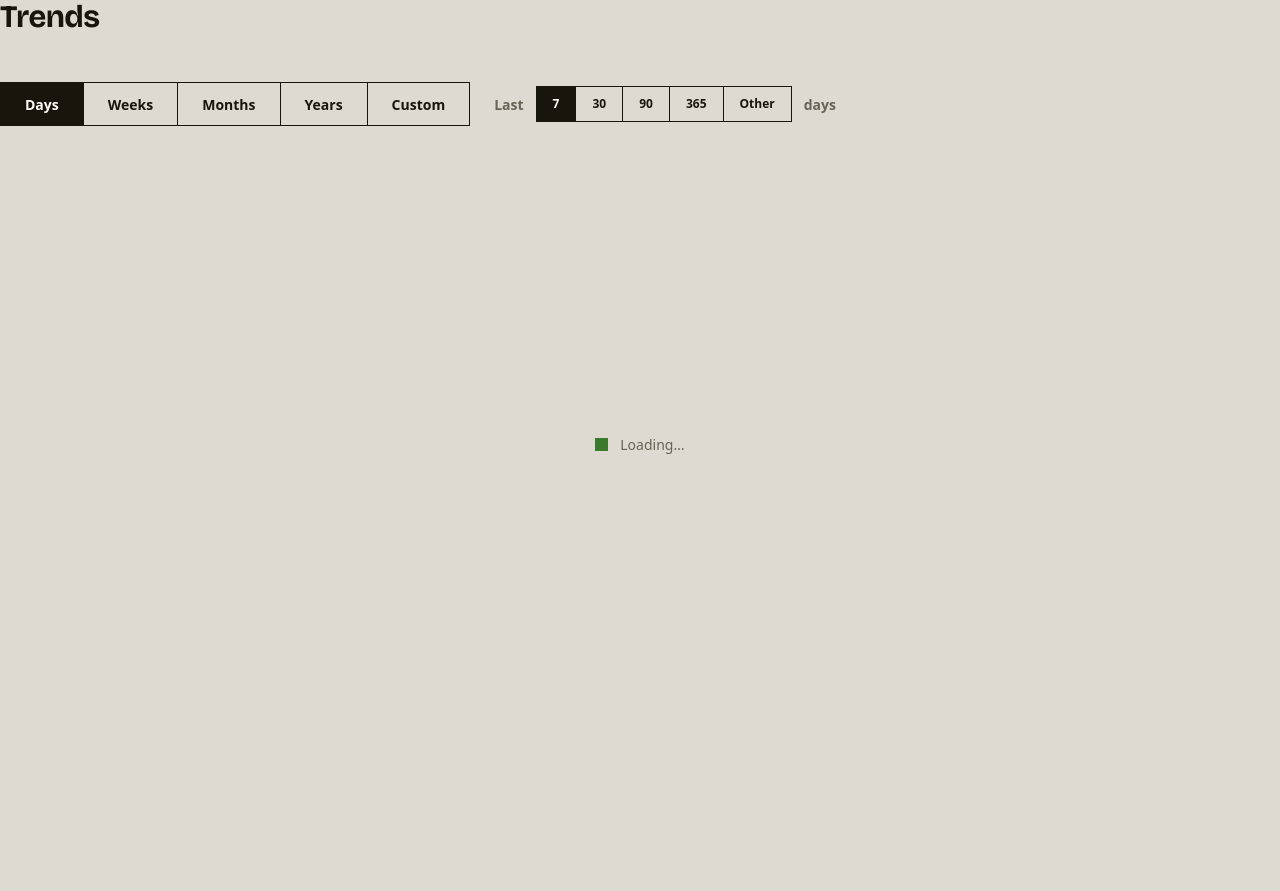
Scenario: Trends › shows the loader until the current request answers, ignoring a slower earlier one
Expected: the text "Loading…" is shown, [620,434,684,455]
Click the button "Weeks": {"x": 131, "y": 104} [84,83,178,125]
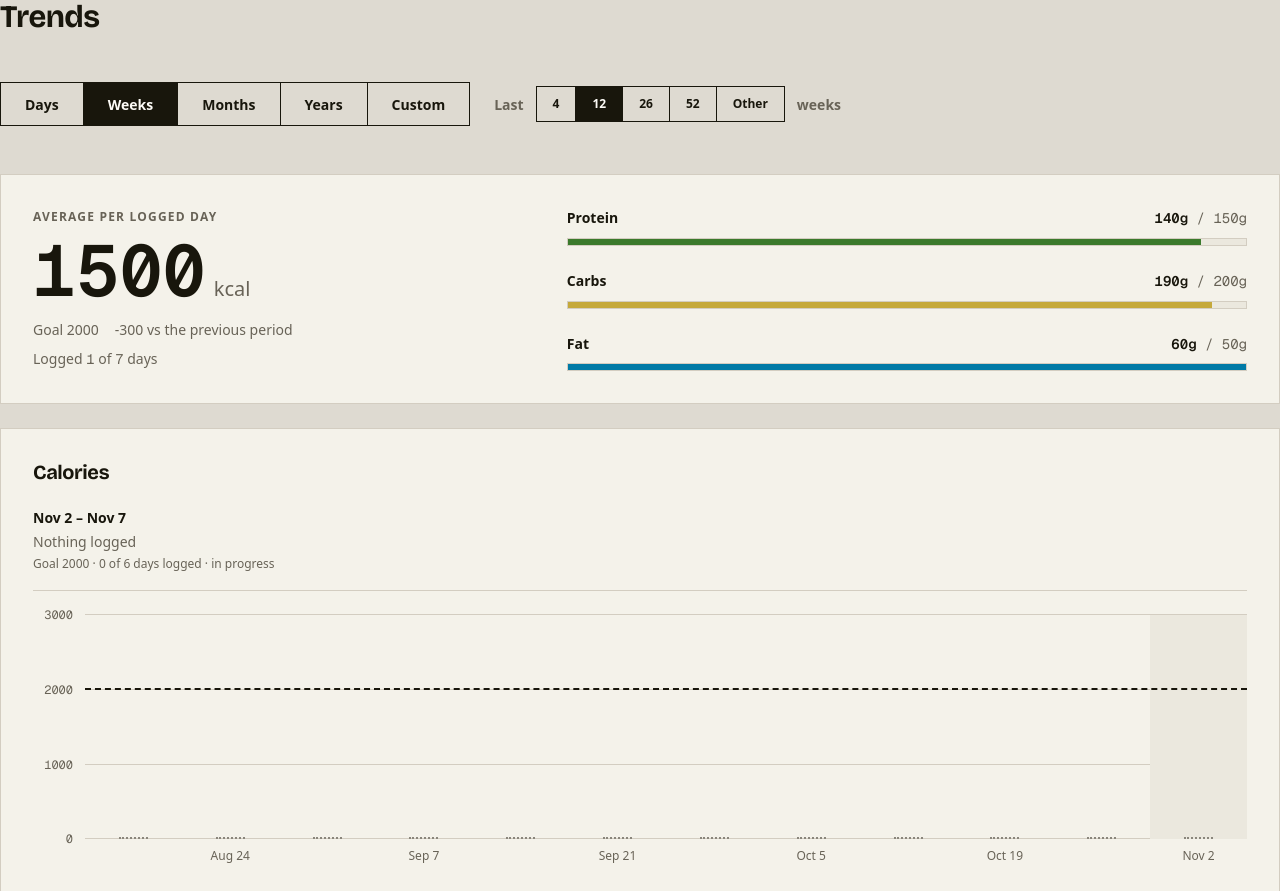
Result: the text "1500" is shown at [33,234,206,306]
Click the button "Days": {"x": 42, "y": 104} [1,83,84,125]
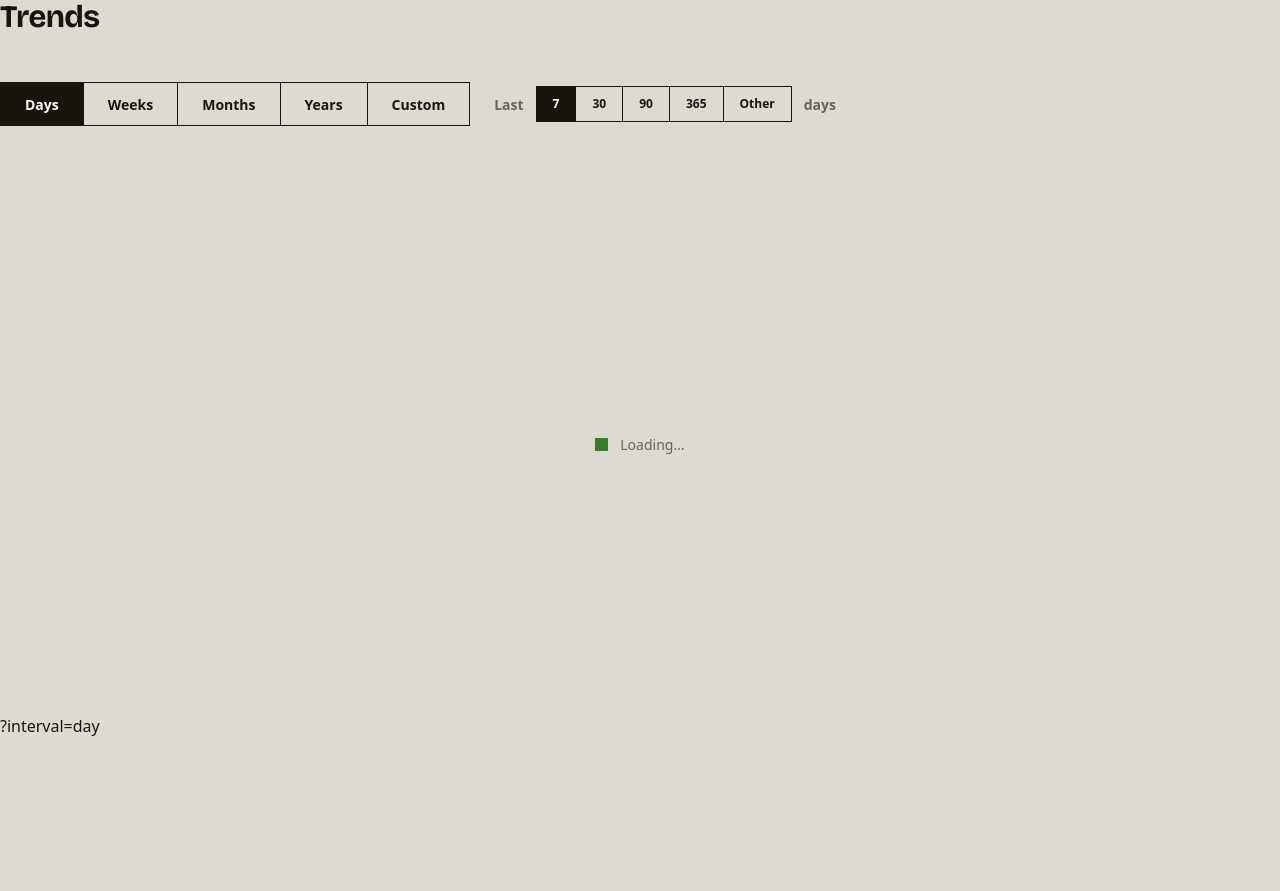
Result: the text "Loading…" is shown at [620,434,684,455]
